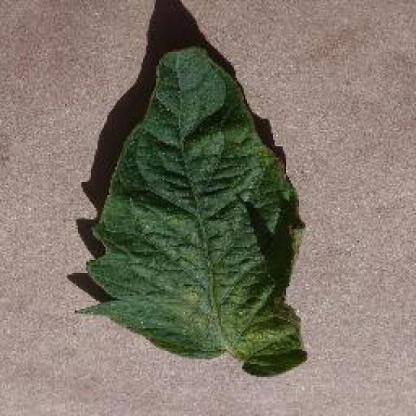Tomato_Spider_Mites: (76, 47, 306, 372)
